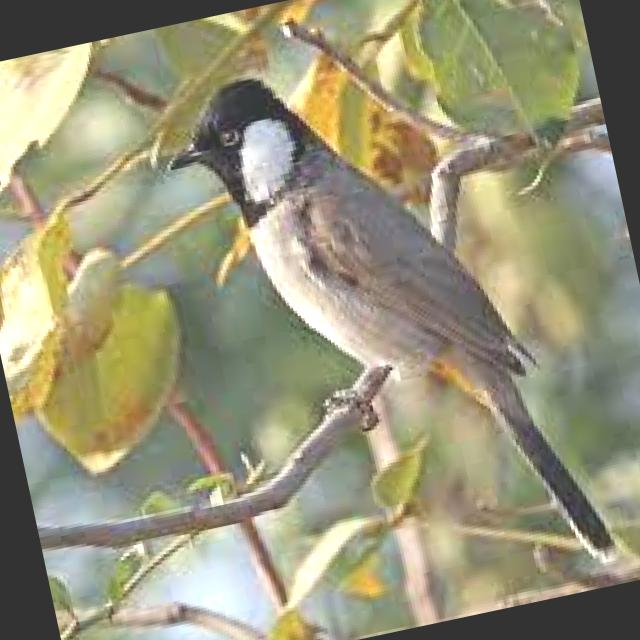bird: (142, 0, 624, 638)
